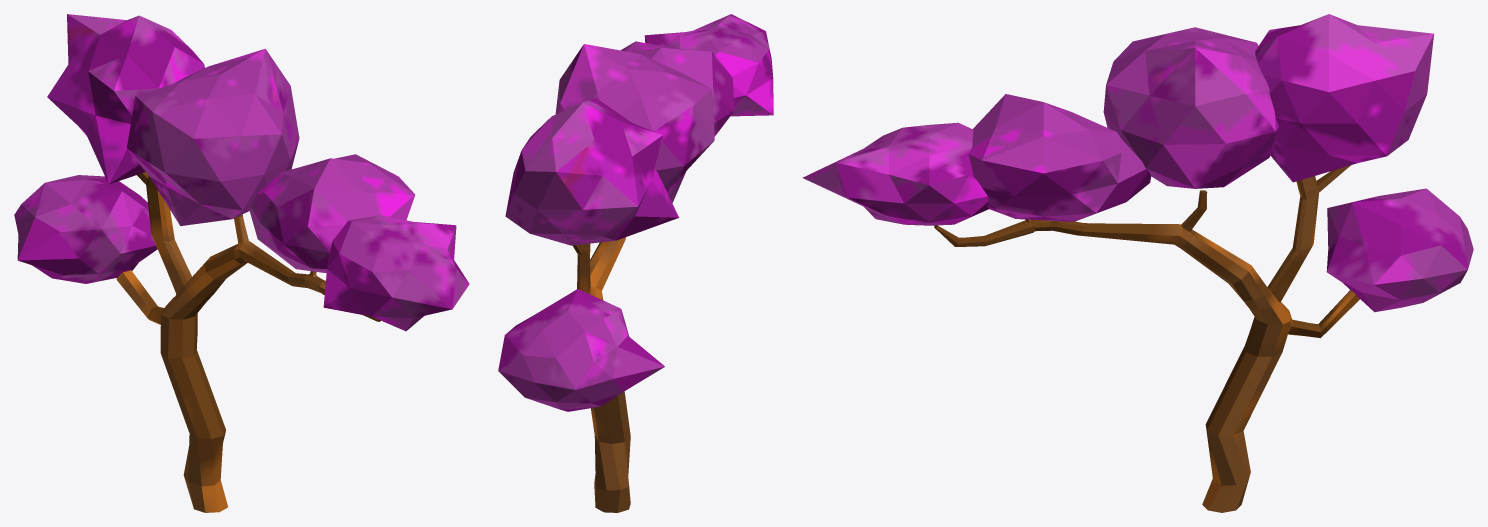
The model's file is tree.obj.
3 views of the same model, side by side, from view 1: azimuth 30°, elevation 25°; view 2: azimuth 150°, elevation 25°; view 3: azimuth 270°, elevation 25° (orthographic). The views are drawn at different scales.
Visible parts, largest first — view 1: Icosphere.002_Icosphere.007; view 2: Icosphere.002_Icosphere.007; view 3: Icosphere.002_Icosphere.007.
Boxes of the visible parts, x1=… form: Icosphere.002_Icosphere.007: x1=14, y1=14, x2=469, y2=512; Icosphere.002_Icosphere.007: x1=498, y1=14, x2=773, y2=512; Icosphere.002_Icosphere.007: x1=802, y1=14, x2=1473, y2=512.
Size of the model in its own units: 14.12 by 26.84 by 33.99.
